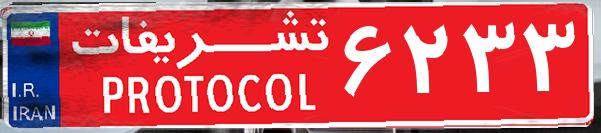2: (400, 20, 460, 115)
3: (460, 20, 520, 115), (520, 20, 580, 115)
6: (340, 20, 400, 115)
تشریفات: (60, 8, 340, 125)
